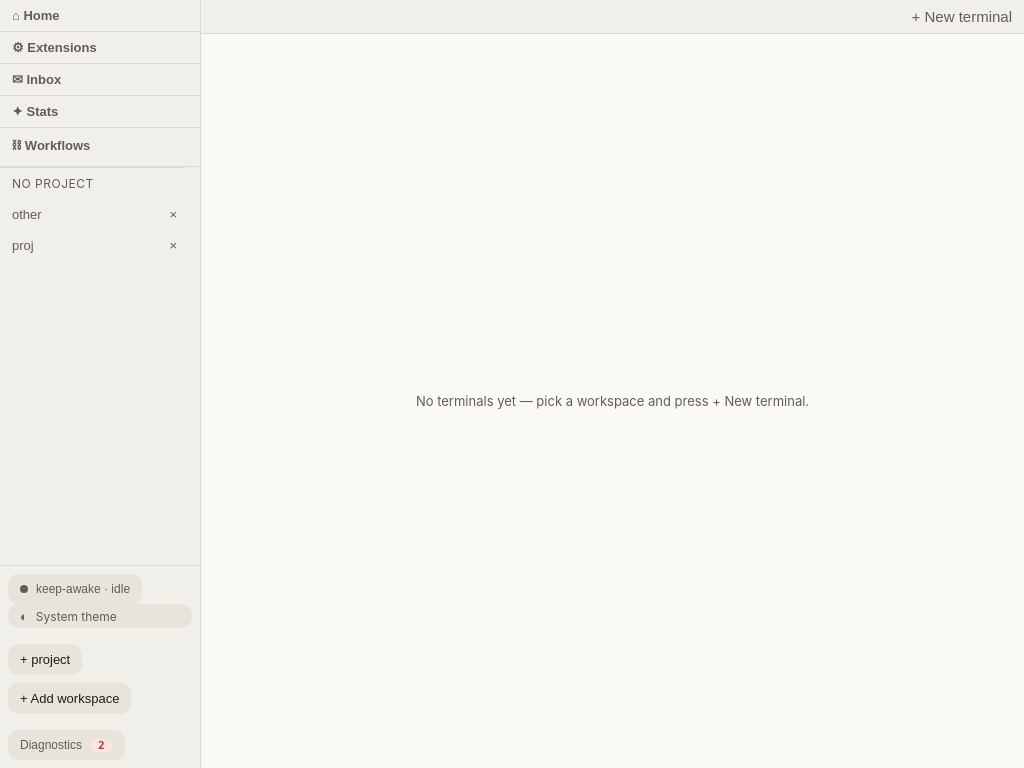
workspace stat chips: the four buckets are an exhaustive partition › a cold-rehydrated session is counted as «restored» — never as live, never dropped
What coordinates should you click on to do the following:
click the button "proj"
I would click on:
 (81, 246)
Its box is left=0, top=230, right=161, bottom=261.
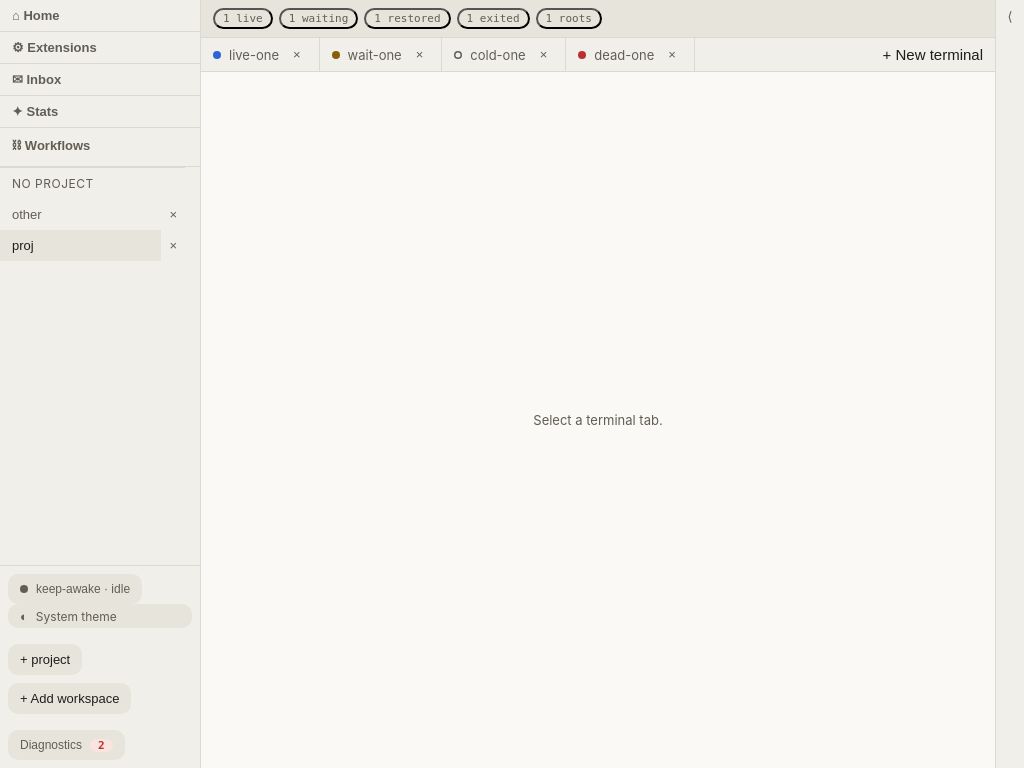
Expected: the button with test id "workspace-stat-live" reads "1 live", left=213, top=8, right=273, bottom=29
Expected: the button with test id "workspace-stat-waiting" reads "1 waiting", left=279, top=8, right=358, bottom=29
Expected: the button with test id "workspace-stat-exited" reads "1 exited", left=457, top=8, right=530, bottom=29
